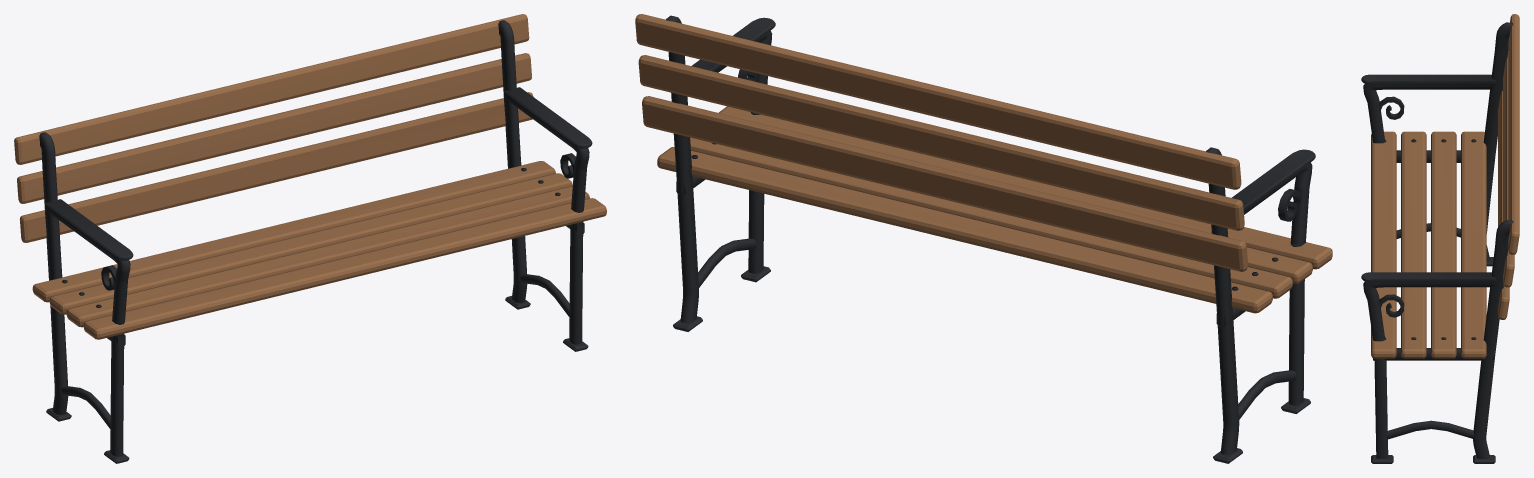
File: bench.glb
3 renders of one model, left to right at view 1: azimuth 30°, elevation 25°; view 2: azimuth 150°, elevation 25°; view 3: azimuth 270°, elevation 25°, orthographic. The views are drawn at different scales.
Parts seen in each view (by area): view 1: bench; view 2: bench; view 3: bench.
Part boxes in pixels (x1,y1,x2,y2): bench: [14, 14, 606, 463]; bench: [635, 14, 1332, 463]; bench: [1361, 14, 1519, 463].
Bounding box in the file's own units: 1.74 × 0.8852 × 0.5277.
